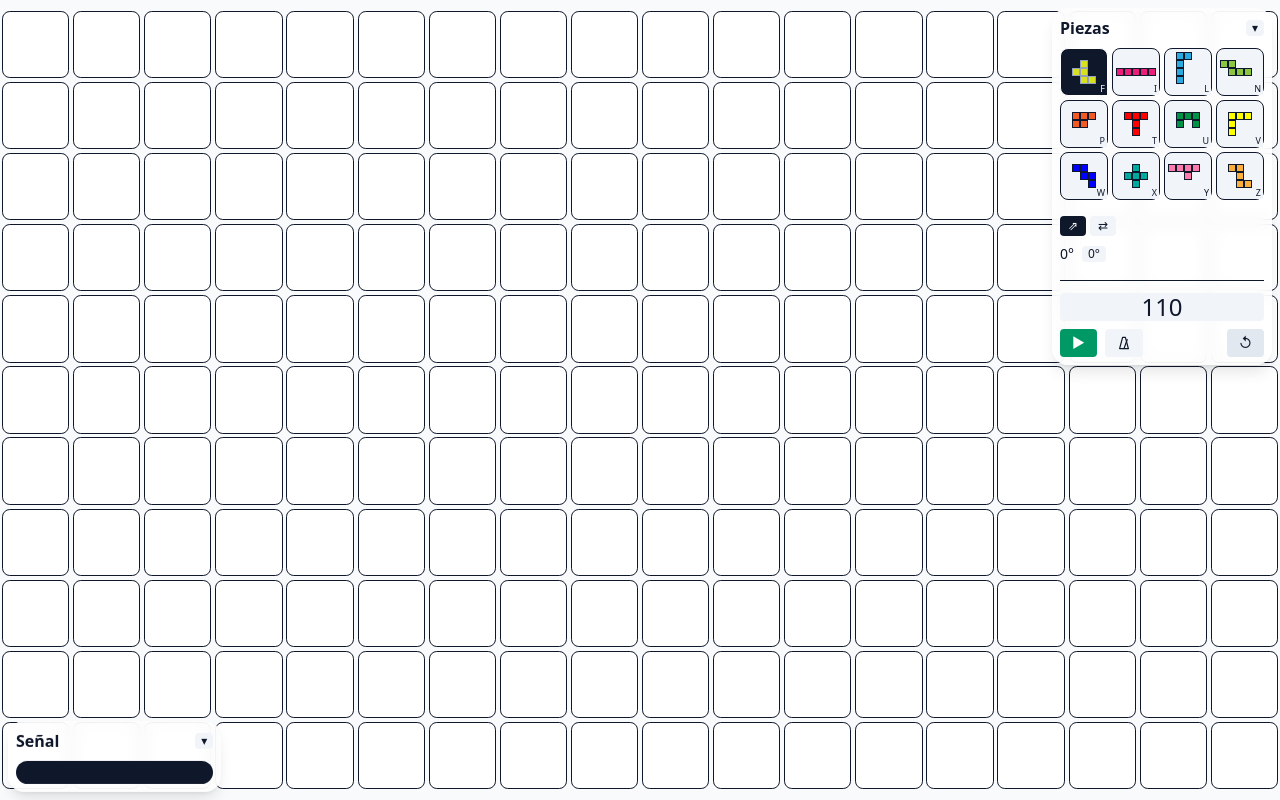
Test: App: the orientation, by panel and by gesture › AC-PCS-023 — a rotation of the piece in hand changes no note of a placed piece
Click the cell named "fila 3, columna 4, libre".
click(249, 187)  # box left=213, top=151, right=284, bottom=222
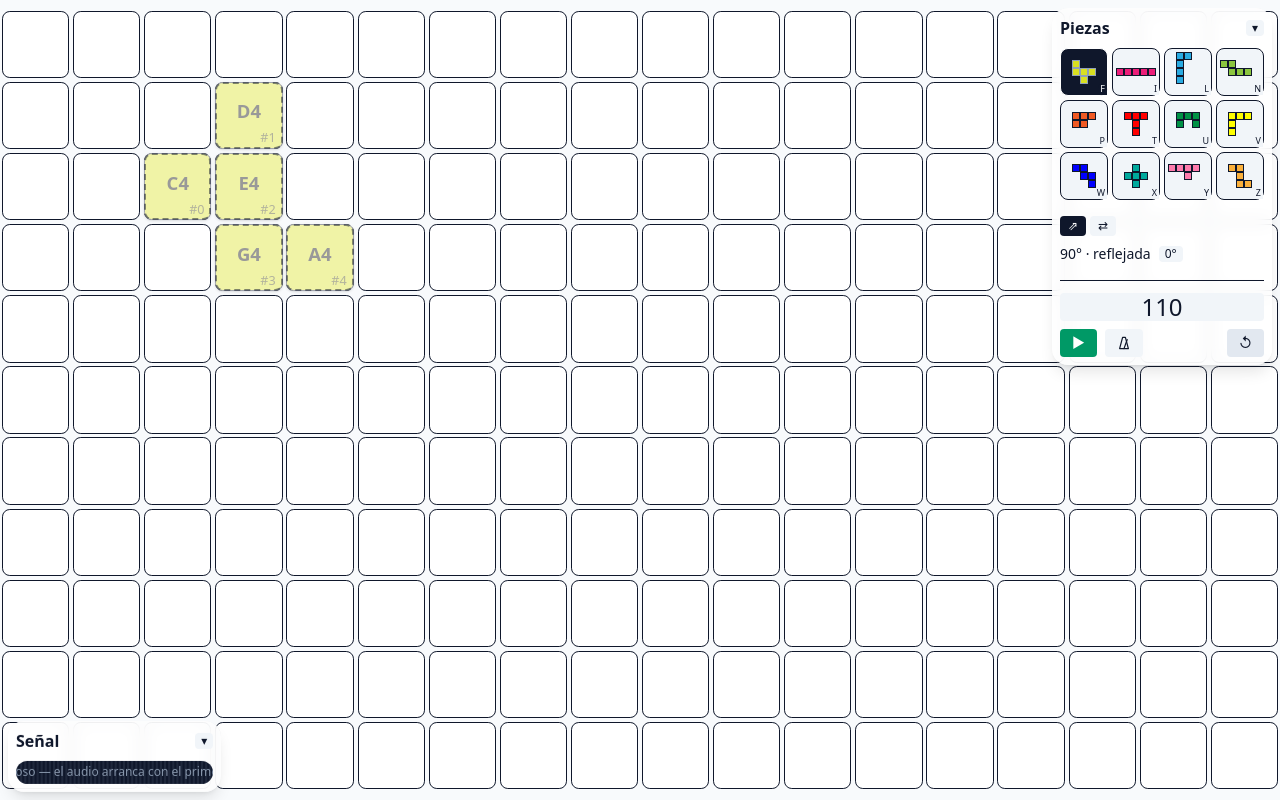
Expected: the text "90° · reflejada" is shown, left=1060, top=244, right=1151, bottom=264
